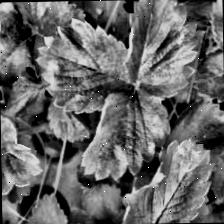Powdery Mildew Leaf: (34, 16, 137, 116), (78, 86, 172, 182), (117, 137, 215, 224), (120, 0, 200, 102)
